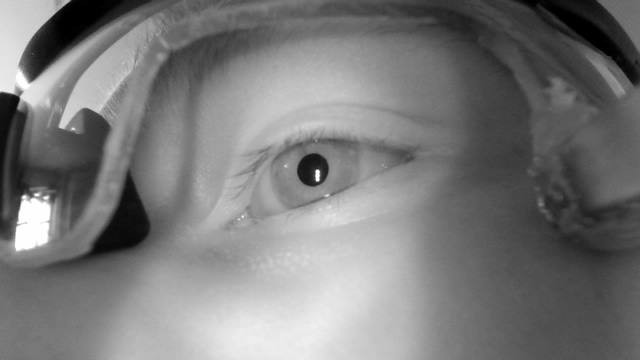pupil: (297, 153, 329, 187)
